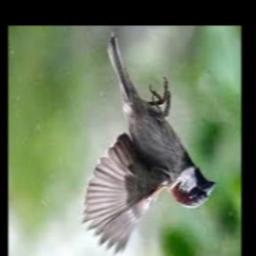Sparrow: (82, 34, 215, 256)
